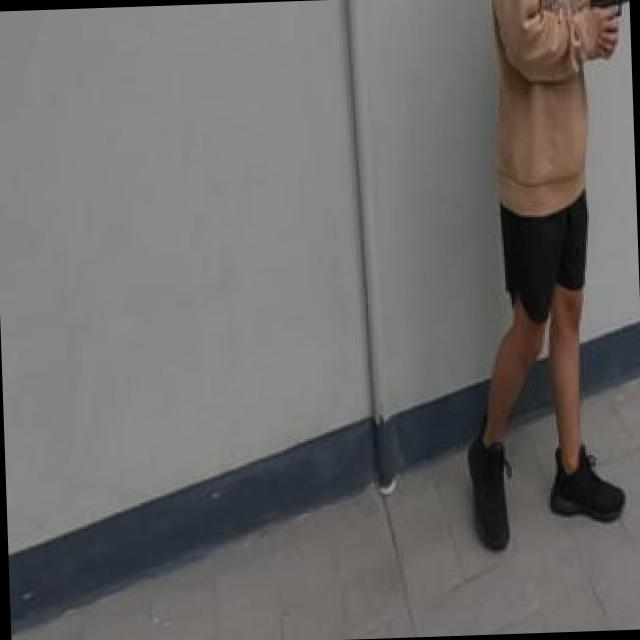Guns: (579, 0, 630, 31)
